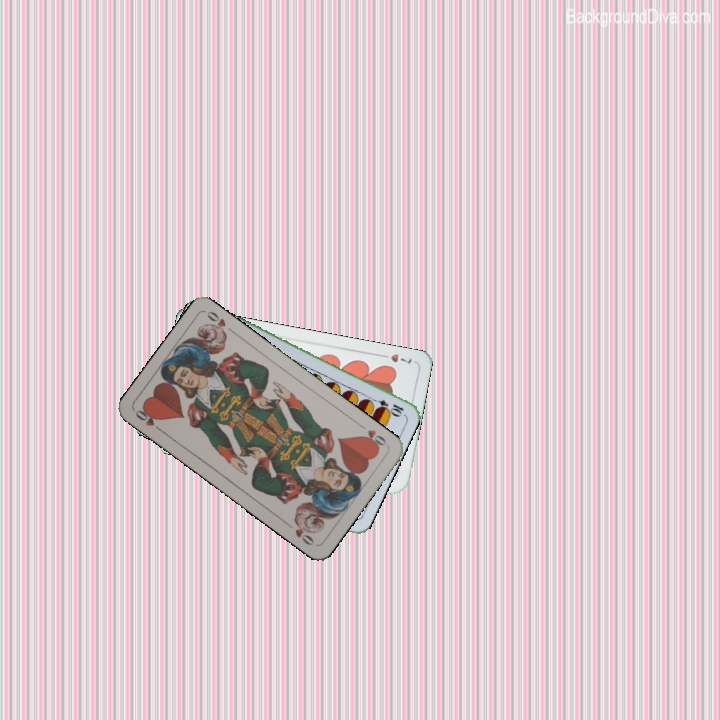E10: (366, 394, 406, 418)
H7: (376, 349, 414, 366)
HO: (355, 420, 390, 451), (131, 404, 166, 435)
